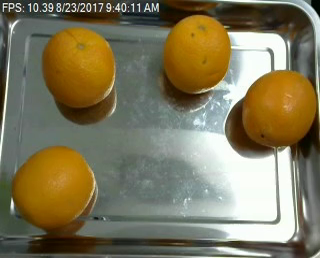Orange: (10, 146, 95, 227), (242, 68, 318, 147), (40, 27, 115, 107), (163, 14, 231, 93)
